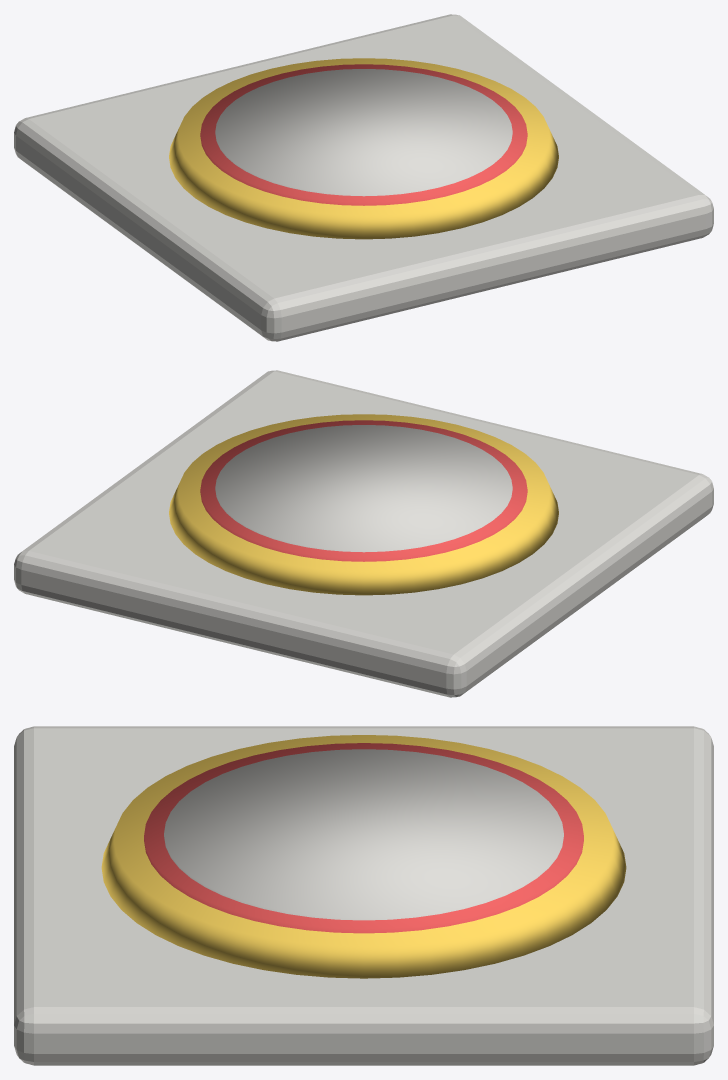
The model's file is Tile_Corner.fbx.
3 views of the same model, one above another, from view 1: azimuth 30°, elevation 25°; view 2: azimuth 150°, elevation 25°; view 3: azimuth 270°, elevation 25° (orthographic). The views are drawn at different scales.
Parts seen in each view (by area): view 1: Tile_Corner; view 2: Tile_Corner; view 3: Tile_Corner.
Part boxes in pixels (x1=…): Tile_Corner: x1=14, y1=14, x2=713, y2=341; Tile_Corner: x1=14, y1=370, x2=713, y2=697; Tile_Corner: x1=14, y1=726, x2=713, y2=1065.
Size of the model in its own units: 2.8 by 0.4 by 2.8.
